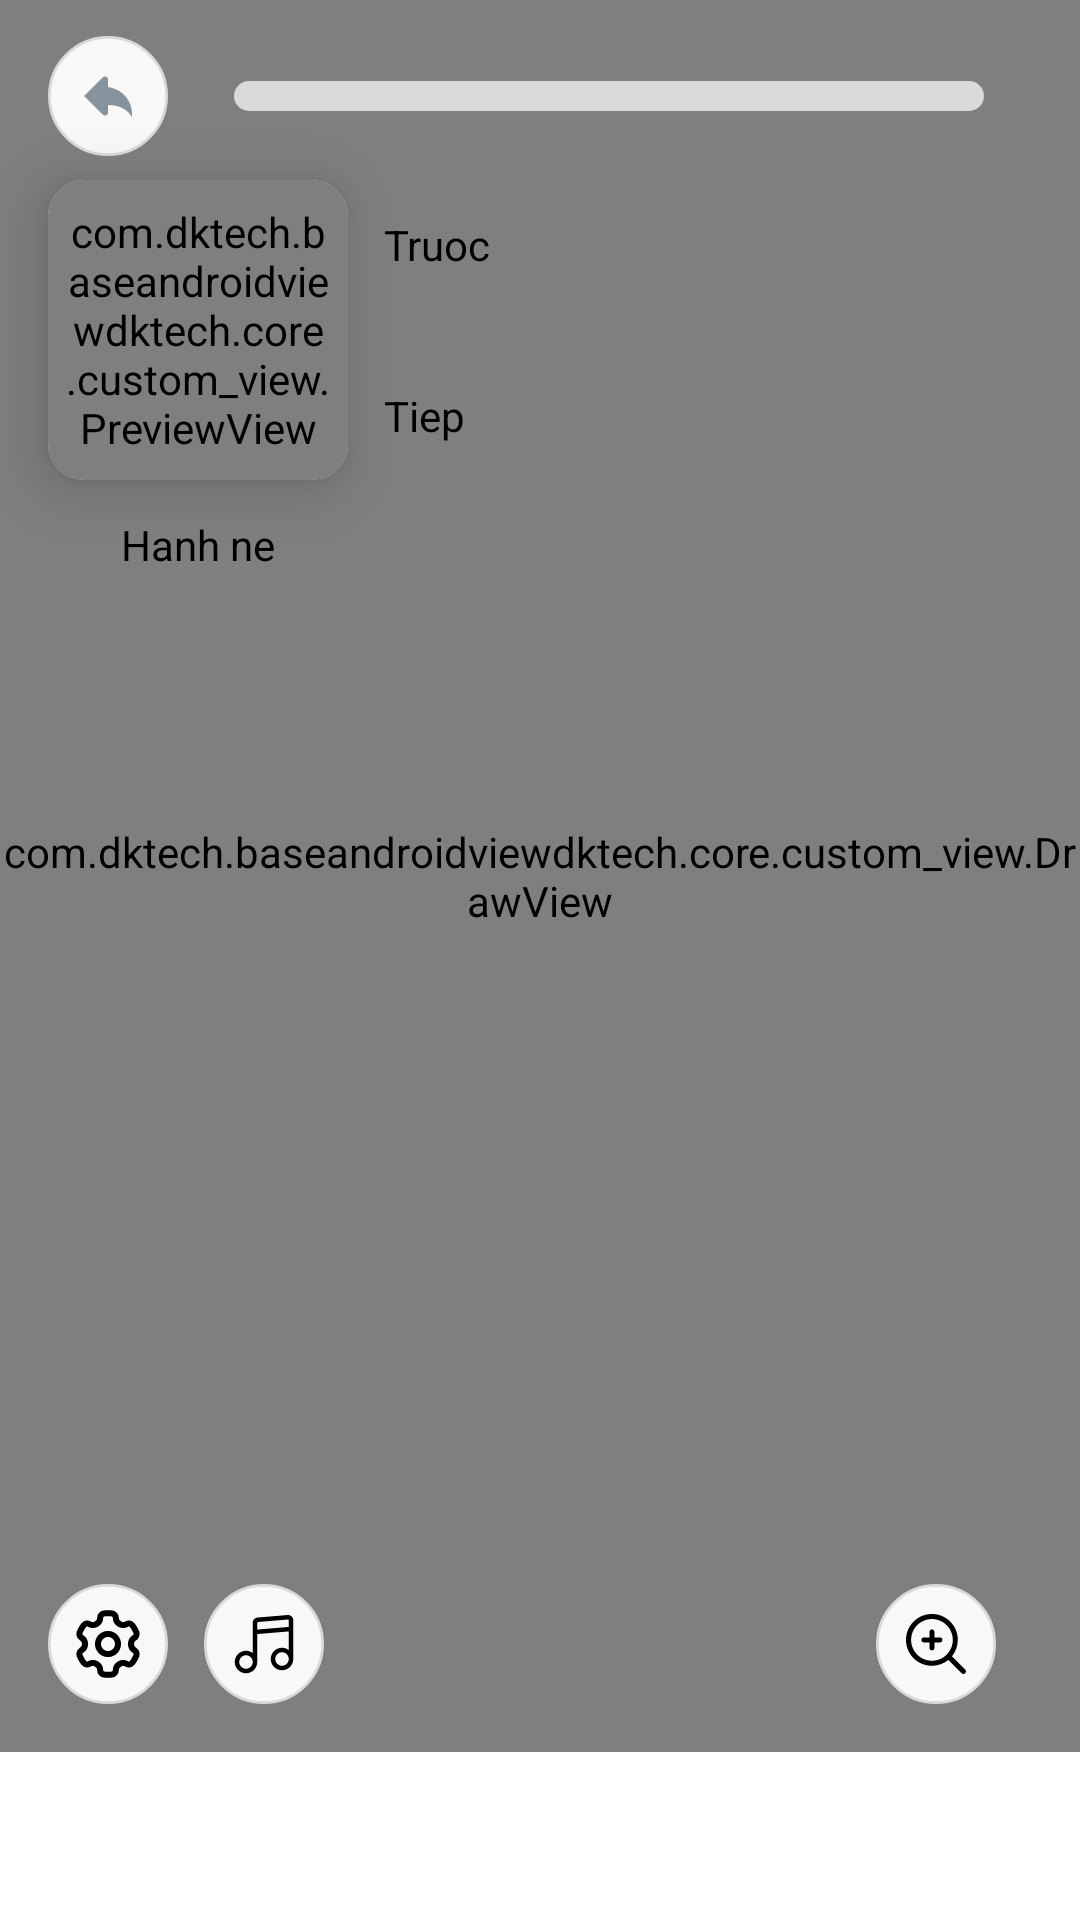

Icons on this 1080w x 1920h Android screen, each with the point to tap as (x=x, y=y):
back: (x=108, y=96)
music: (x=264, y=1644)
setting draw: (x=108, y=1644)
zoomin: (x=936, y=1644)
